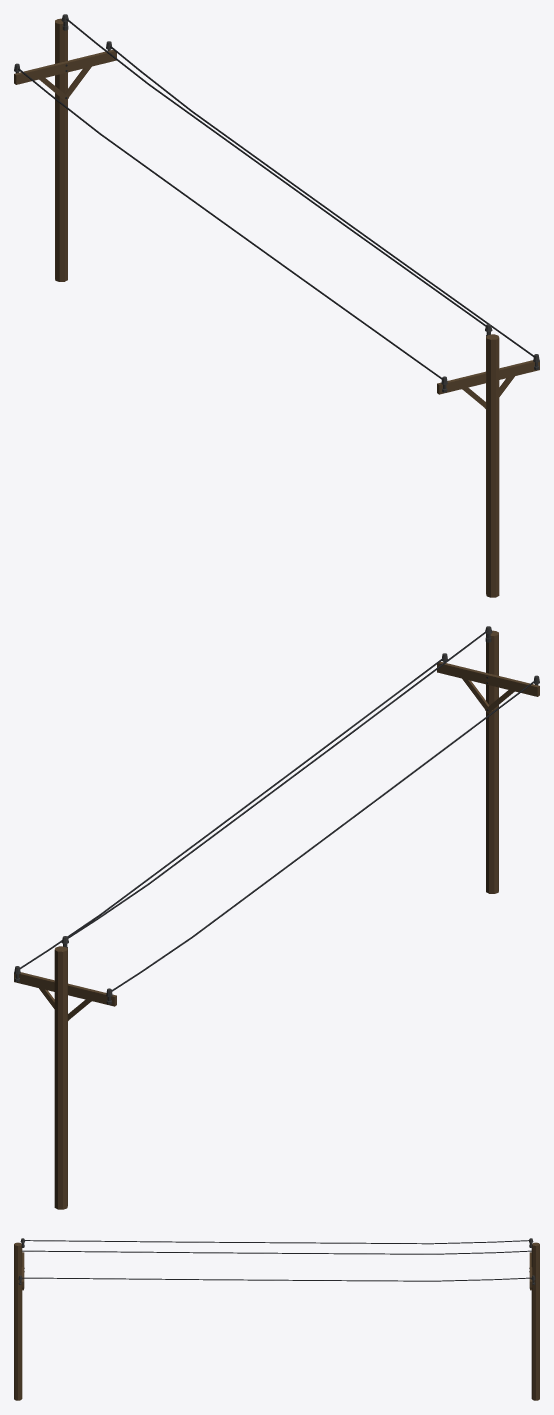
Rendered from PowerTransmissions_2.fbx.
3 views of the same model, one above another, from view 1: azimuth 30°, elevation 25°; view 2: azimuth 150°, elevation 25°; view 3: azimuth 270°, elevation 25° (orthographic). The views are drawn at different scales.
Parts seen in each view (by area): view 1: PowerTransmissions_2; view 2: PowerTransmissions_2; view 3: PowerTransmissions_2.
Boxes of the visible parts, x1,y1,x2,y2 form: PowerTransmissions_2: [14, 14, 539, 597]; PowerTransmissions_2: [14, 626, 539, 1209]; PowerTransmissions_2: [14, 1238, 539, 1400].
Size of the model in its own units: 81.79 by 207 by 616.
